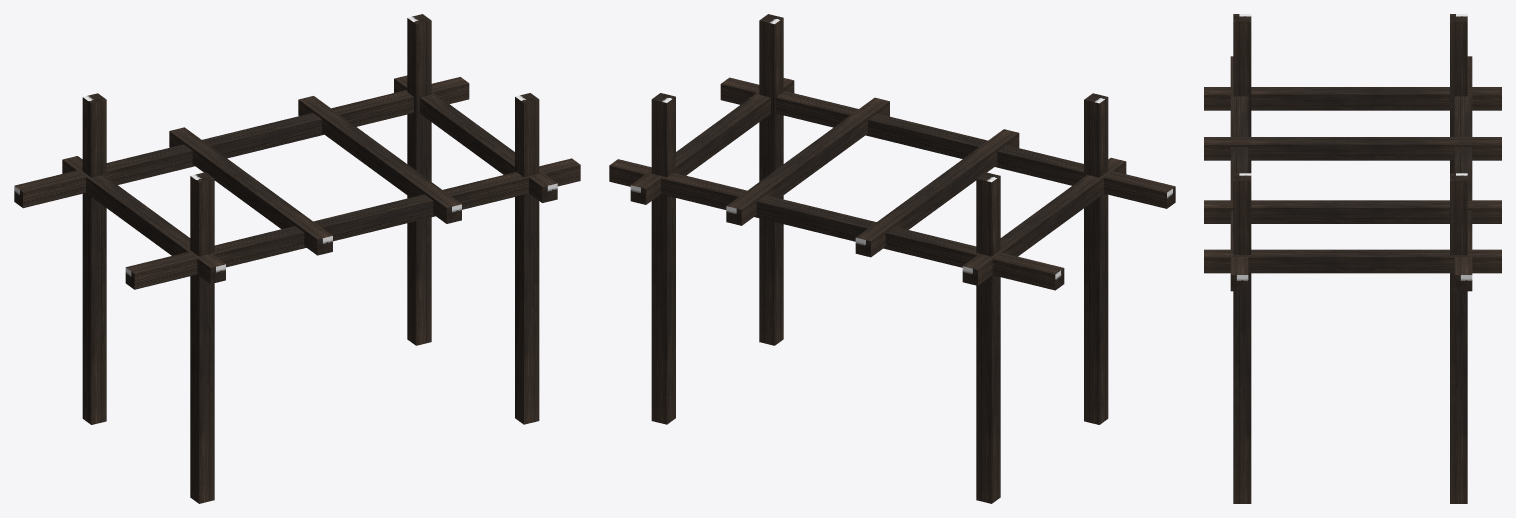
The model's file is Wood_4S_mk2.fbx.
3 renders of one model, left to right at view 1: azimuth 30°, elevation 25°; view 2: azimuth 150°, elevation 25°; view 3: azimuth 270°, elevation 25°, orthographic.
Parts seen in each view (by area): view 1: wood; view 2: wood; view 3: wood.
Part boxes in pixels (x1=…): wood: x1=14, y1=14, x2=580, y2=503; wood: x1=609, y1=14, x2=1175, y2=503; wood: x1=1204, y1=14, x2=1501, y2=503.
Size of the model in its own units: 987 by 680 by 568.
